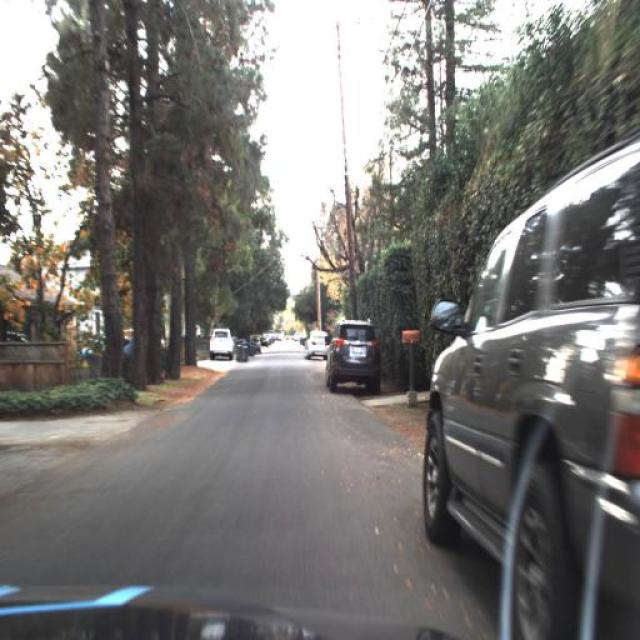car: (421, 132, 640, 640), (322, 317, 383, 392), (206, 325, 237, 363), (301, 324, 330, 364)
